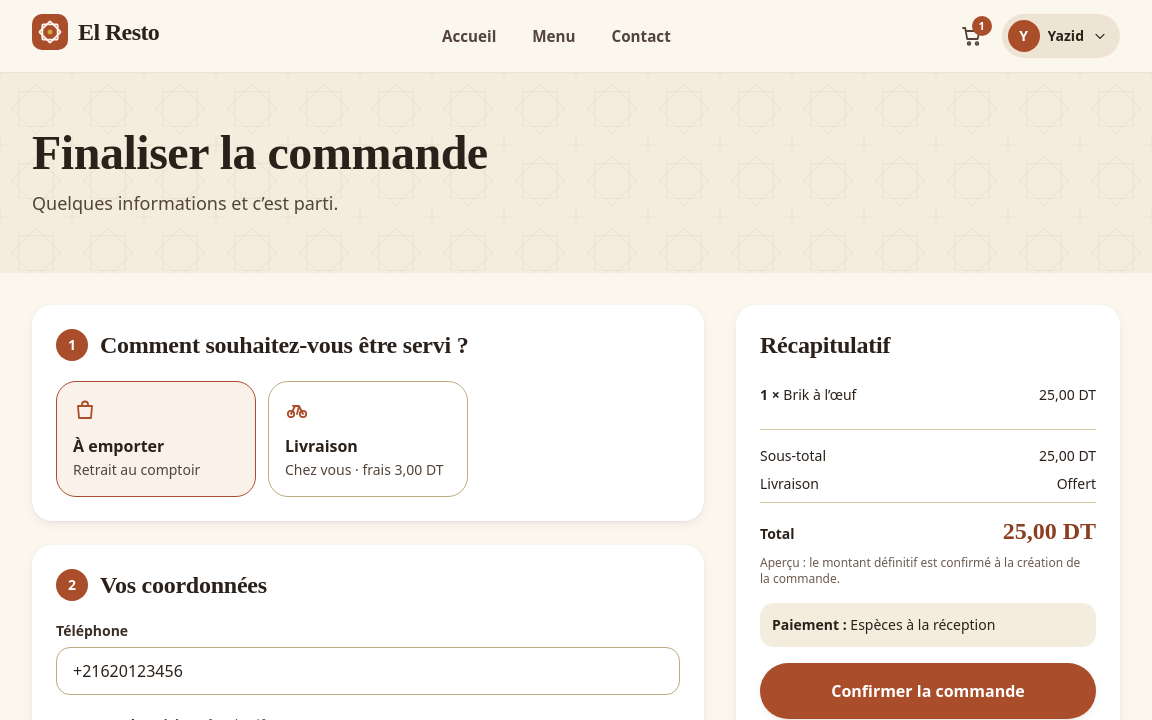
formulaire de commande › erreur 409 restaurant fermé : message dédié et aucune navigation
Click the button "Confirmer la commande": (928, 691) [760,663,1096,719]
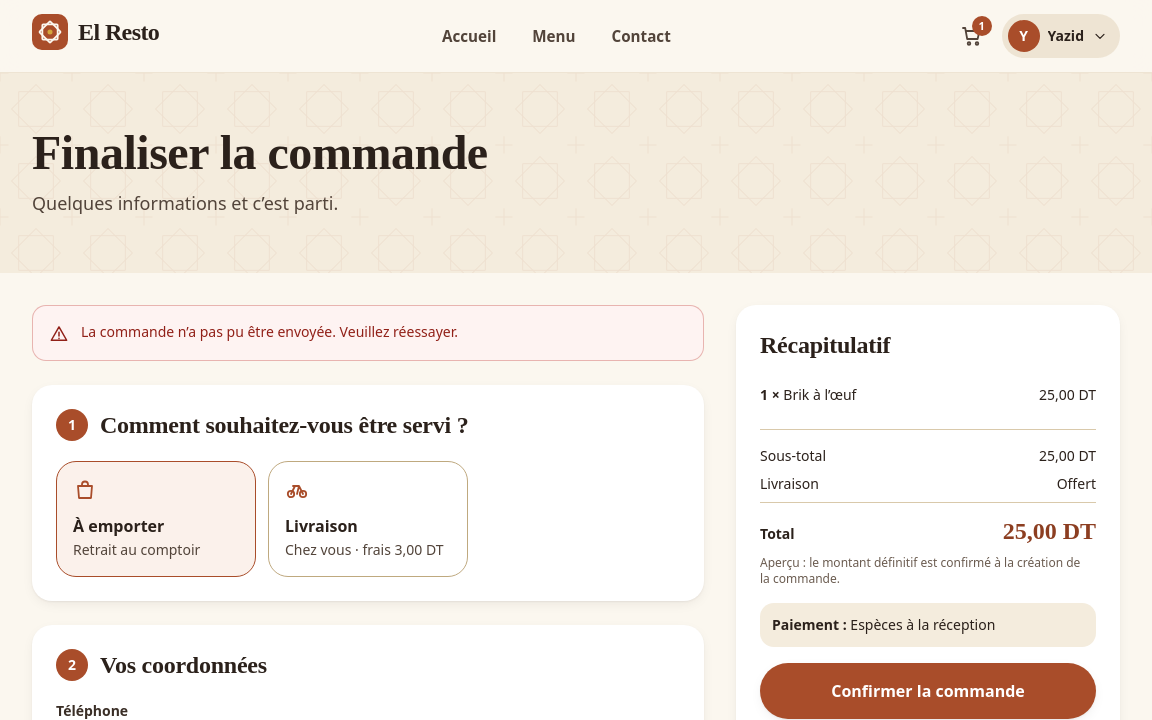
Expected: the message "La commande n’a pas pu être envoyée. Veuillez réessayer." is shown, [32,305,704,361]
Expected: the text "La commande n’a pas pu être envoyée. Veuillez réessayer." is shown, [81,322,458,342]
